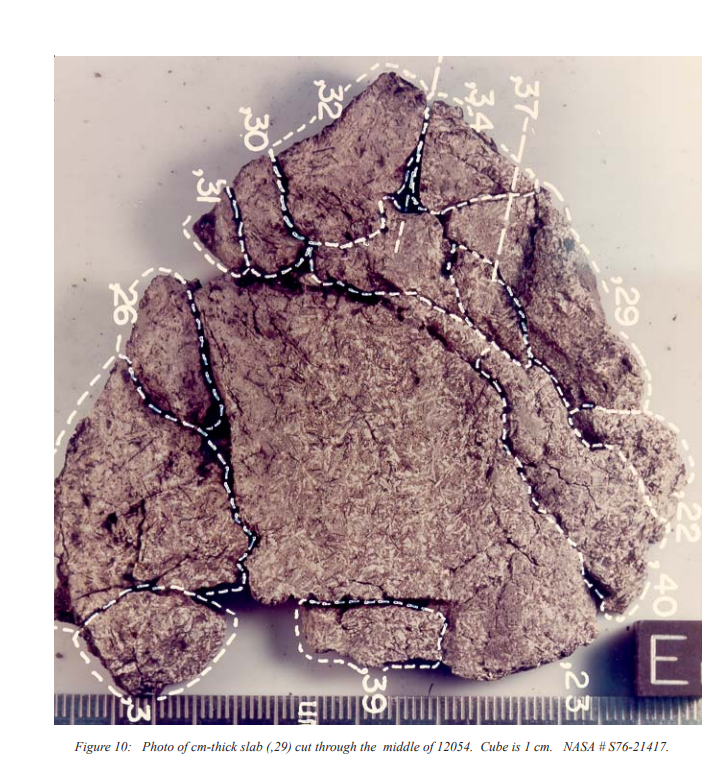Basalt: (187, 288, 568, 603), (453, 291, 690, 603), (191, 91, 569, 264), (43, 343, 223, 686)
